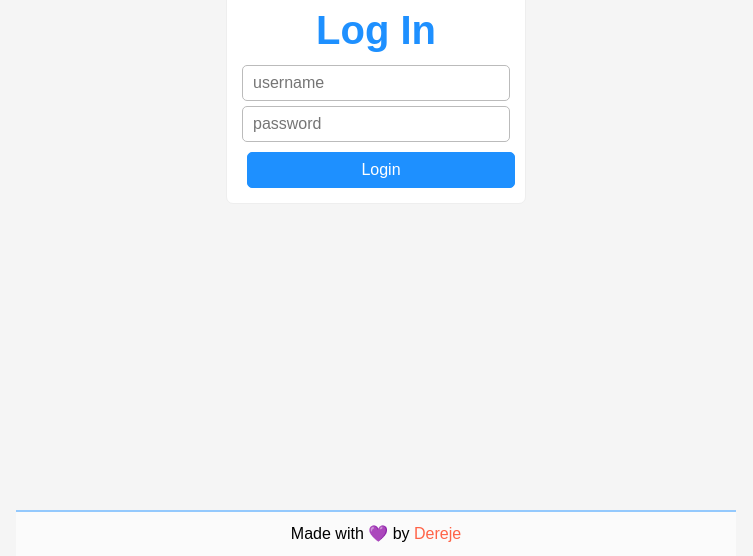
Bloglist app › Login › failse with wrong credentials
Type "john" into the field with id "username".
click(376, 83); type("john")  # box 242,65 -> 510,101
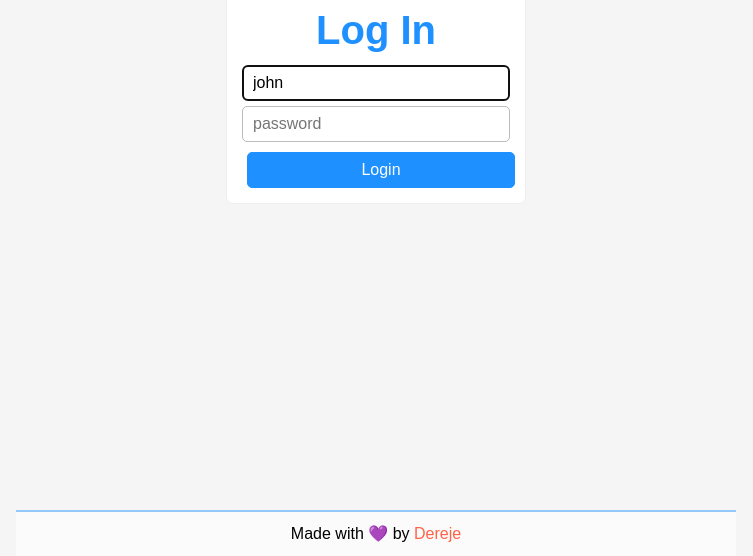
Type "wrong pass" into the password field with placeholder "password".
click(376, 124); type("wrong pass")  # box 242,106 -> 510,142
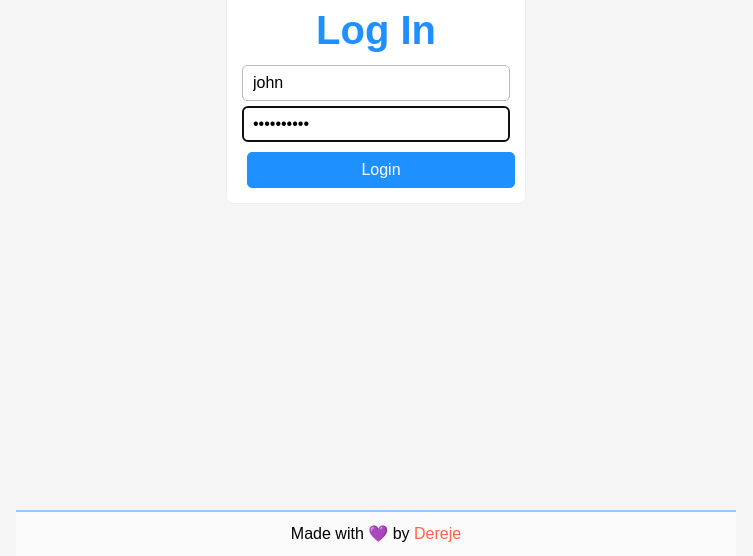
Click the button "Login".
click(381, 170)  # box 247,152 -> 515,188
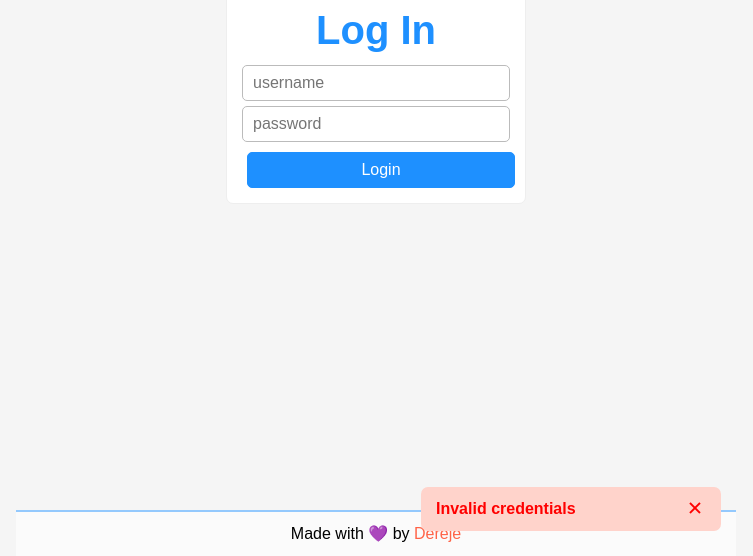
Now the text "Invalid credentials" is shown, box 436,497 -> 576,521
